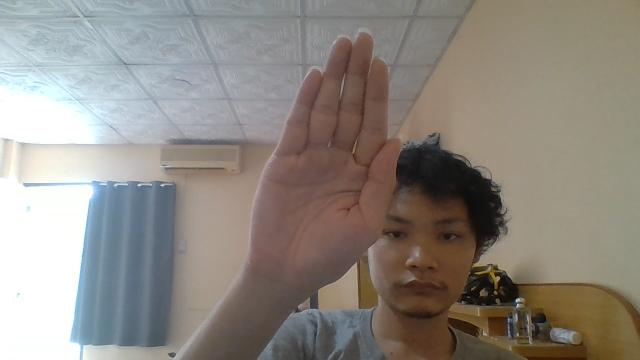Stop: (246, 28, 402, 296)
